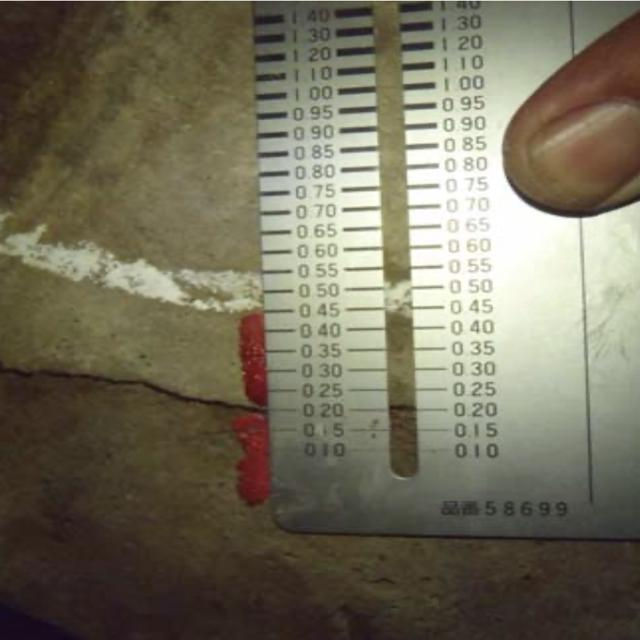crack: (6, 330, 266, 429)
